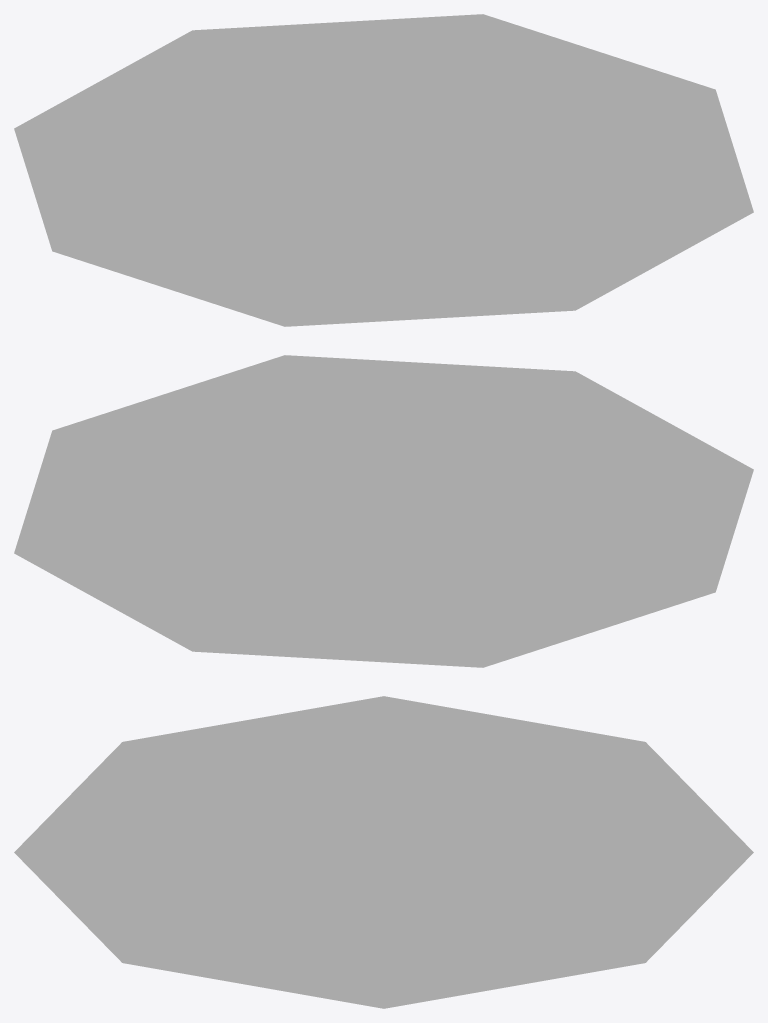
Rendered from fake_lamp.fbx.
The picture shows the model from 3 angles, top to bottom: view 1: azimuth 30°, elevation 25°; view 2: azimuth 150°, elevation 25°; view 3: azimuth 270°, elevation 25°; orthographic projection. The views are drawn at different scales.
Parts seen in each view (by area): view 1: fake_lamp; view 2: fake_lamp; view 3: fake_lamp.
Part boxes in pixels (x1,y1,x2,y2): fake_lamp: (14, 14, 753, 326); fake_lamp: (14, 355, 753, 667); fake_lamp: (14, 696, 753, 1008).
Size of the model in its own units: 28.83 by 0 by 28.83.
